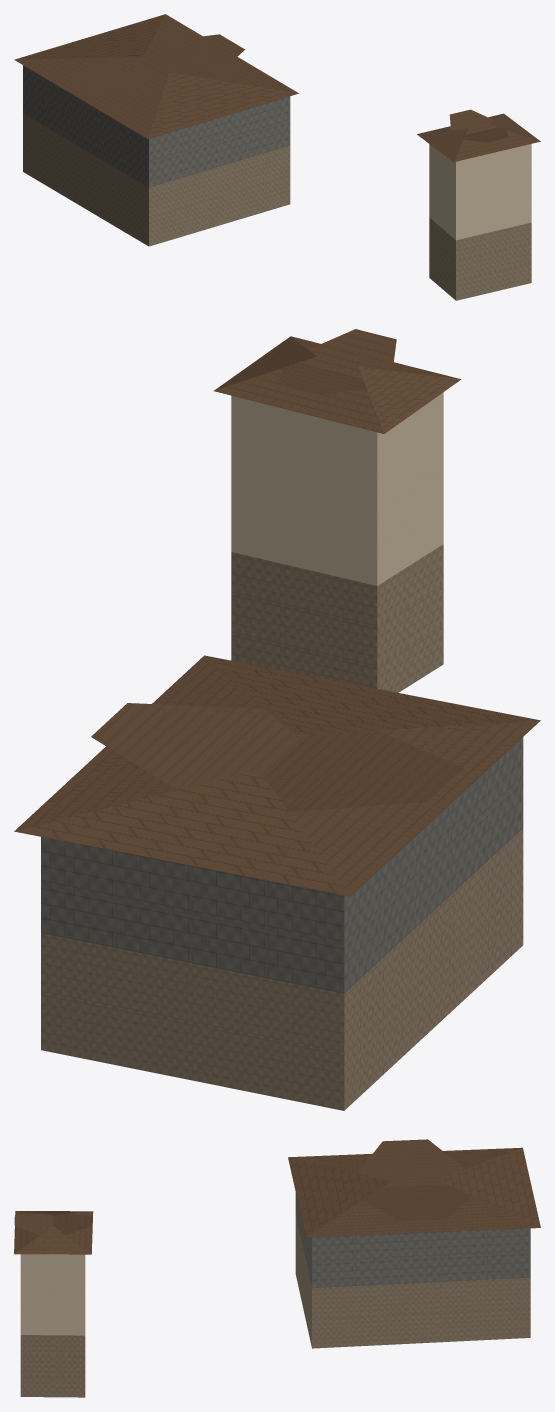
File: bld_c32_47_242.gltf
3 renders of one model, top to bottom at view 1: azimuth 30°, elevation 25°; view 2: azimuth 150°, elevation 25°; view 3: azimuth 270°, elevation 25°, orthographic. The views are drawn at different scales.
Parts seen in each view (by area): view 1: bld_c32_47_242; view 2: bld_c32_47_242; view 3: bld_c32_47_242.
Part boxes in pixels (bbox=[...]): bld_c32_47_242: bbox=[14, 14, 540, 300]; bld_c32_47_242: bbox=[14, 329, 540, 1110]; bld_c32_47_242: bbox=[14, 1139, 540, 1397].
Size of the model in its own units: 24.65 by 13.1 by 39.31.
Materials: 4 (4 with a texture image).
